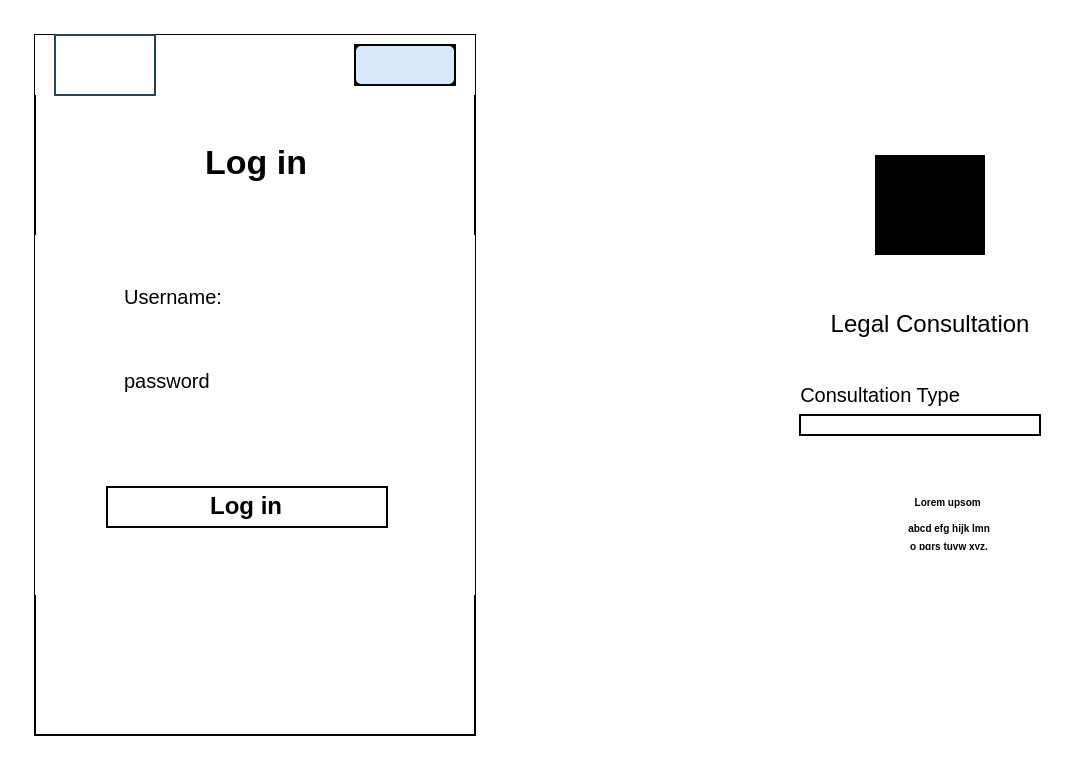
Some shapes in this 1076 by 770 pixel diagram are drawn without their labels. Here are the shapes that lost their labels. From the top down, the box of each, then its label:
(53, 33, 155, 95): Logo
(353, 43, 455, 85): Logout
